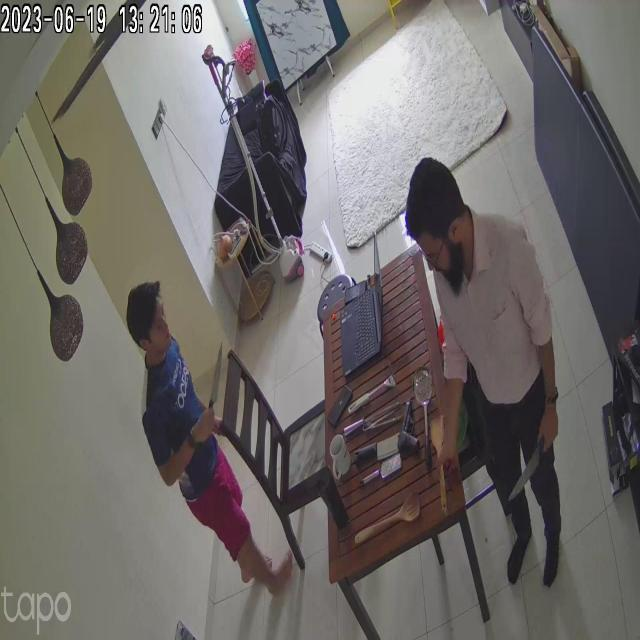Knife: (202, 335, 239, 420), (502, 451, 548, 507)
